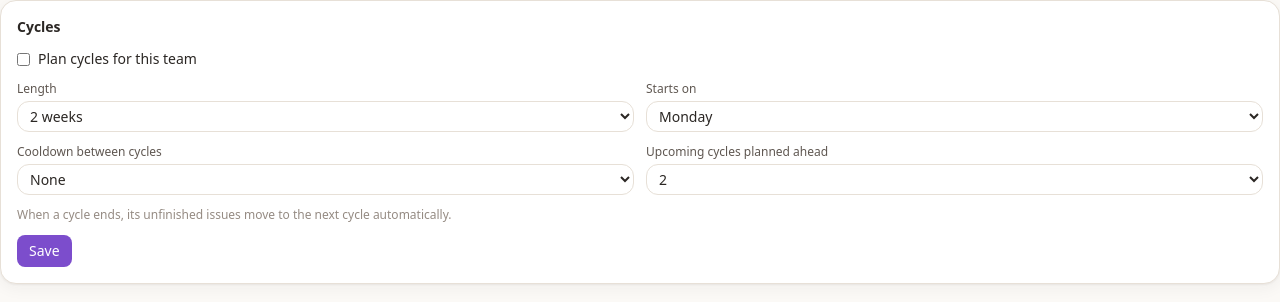
Scenario: CycleSettingsPanel › turns cycles on with the chosen length and start day
The width and height of the screenshot is (1280, 302).
Click the checkbox labelled "Plan cycles for this team" at coordinates (24, 59), box x1=17 y1=52 x2=30 y2=66
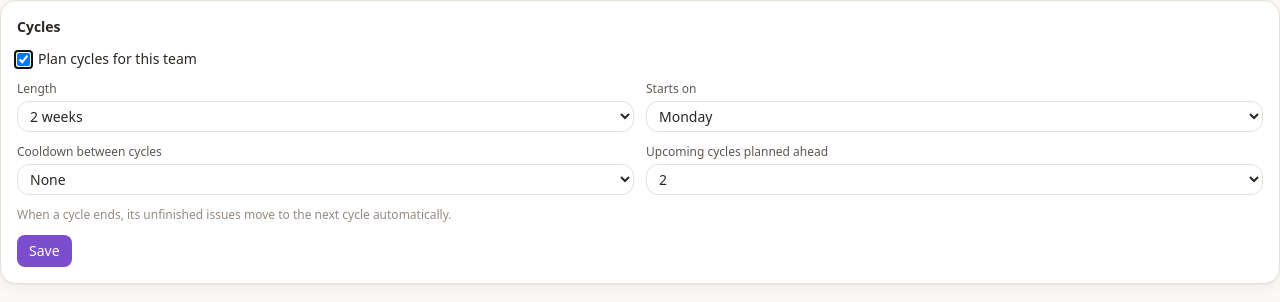
Select "1 week" in the dropdown labelled "Length" at coordinates (326, 116), box x1=17 y1=101 x2=634 y2=132
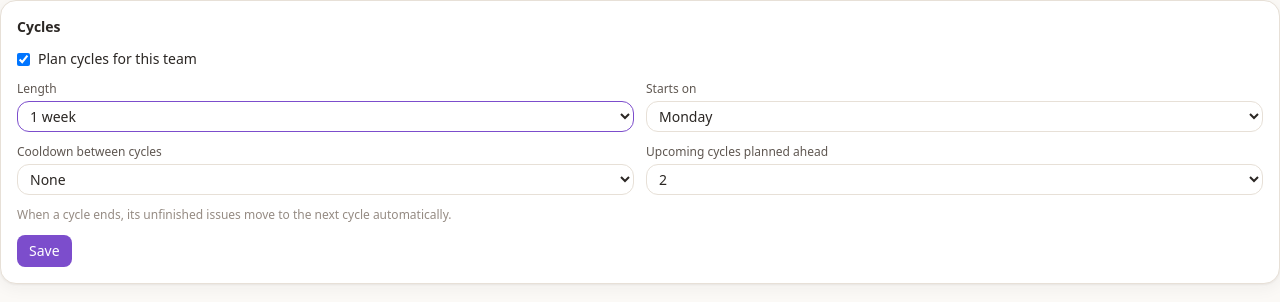
Select "Wednesday" in the dropdown labelled "Starts on" at coordinates (954, 116), box x1=646 y1=101 x2=1263 y2=132
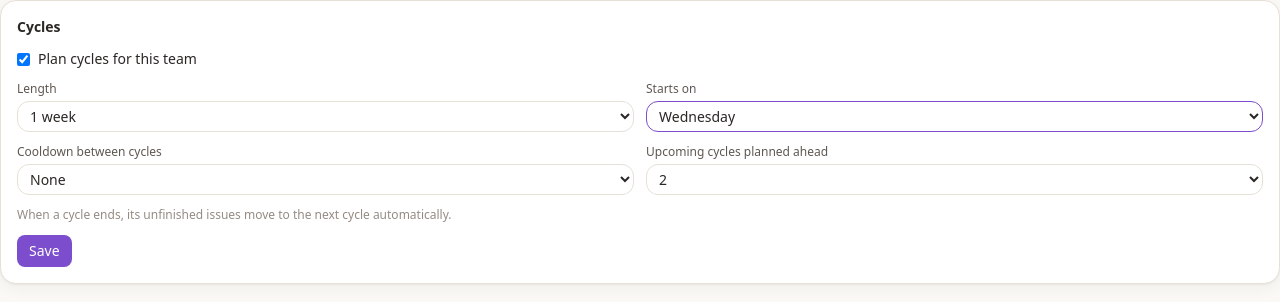
Click the button "Save" at coordinates (44, 251), box x1=17 y1=235 x2=72 y2=267
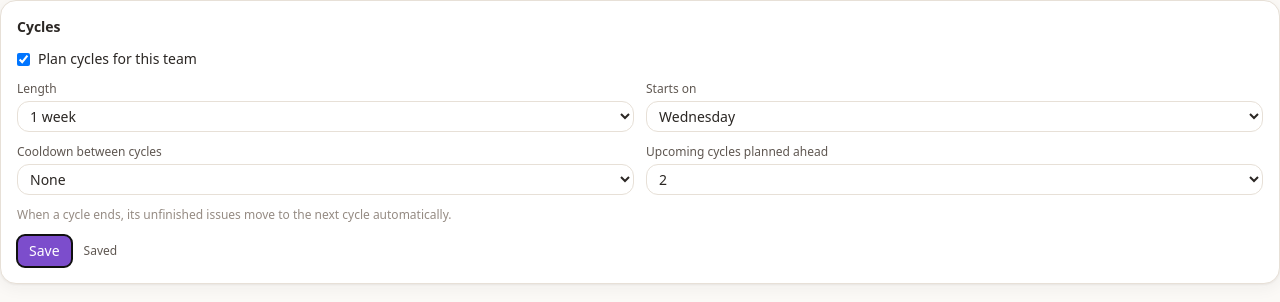
Expected: the message reads "Saved", x1=84 y1=242 x2=117 y2=259
